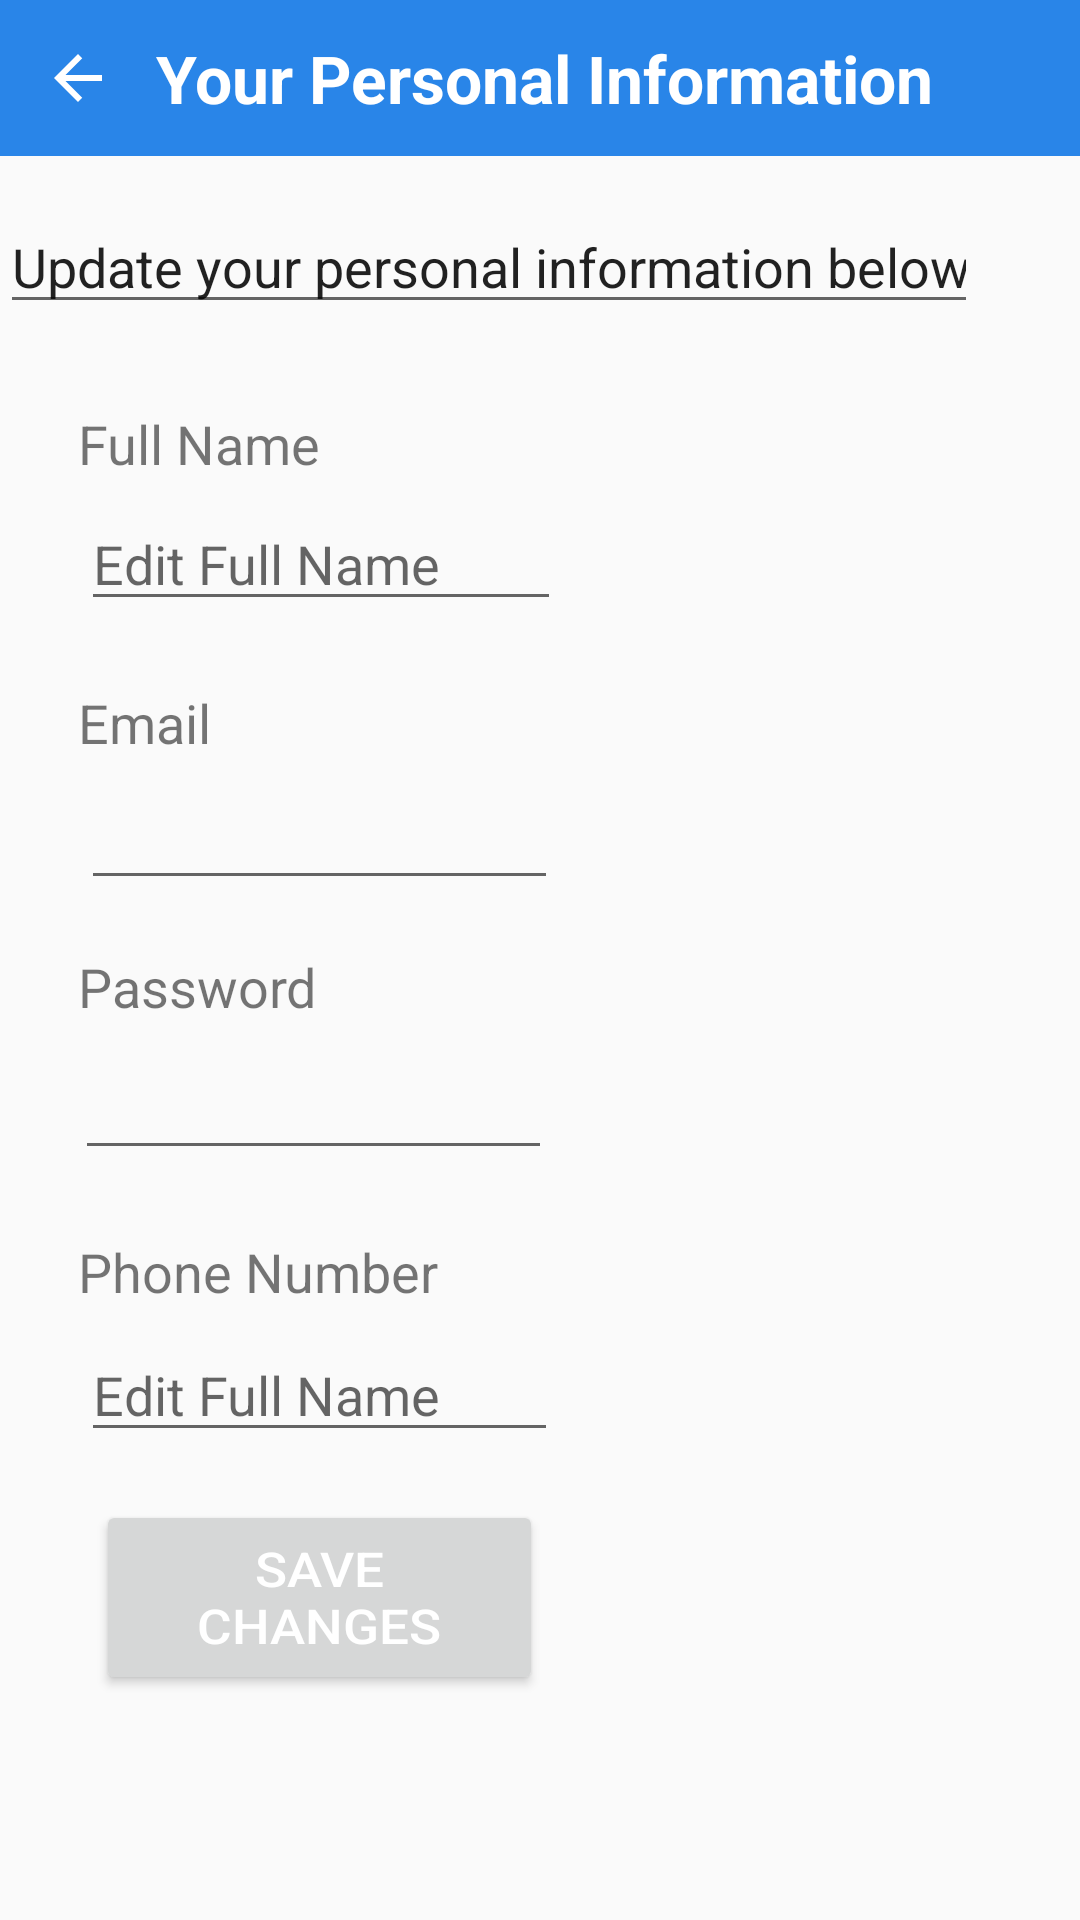

Screen size 1080px x 1920px. Icon name, then its center in pixels as [x,y]:
back arrow: [78,78]
